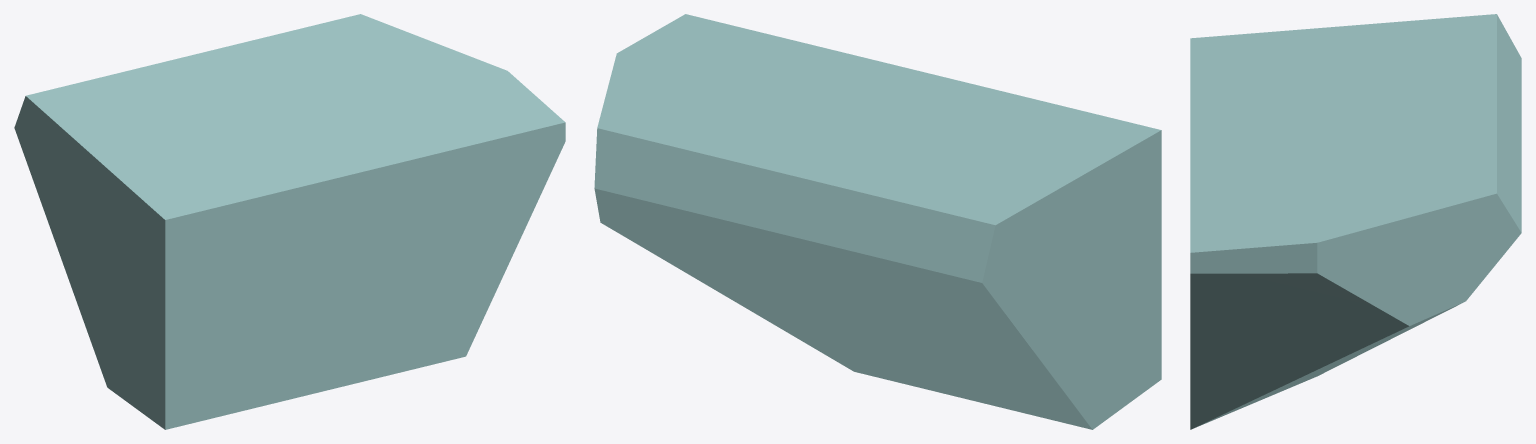
The model's file is x_kray_obriv_blue_18_1_mirror.fbx.
3 renders of one model, left to right at view 1: azimuth 30°, elevation 25°; view 2: azimuth 150°, elevation 25°; view 3: azimuth 270°, elevation 25°, orthographic. The views are drawn at different scales.
Visible parts, largest first — view 1: x_kray_obriv_blue_18_1_mirror1; view 2: x_kray_obriv_blue_18_1_mirror1; view 3: x_kray_obriv_blue_18_1_mirror1.
Boxes of the visible parts, x1,y1,x2,y2 form: x_kray_obriv_blue_18_1_mirror1: (14, 14, 565, 429); x_kray_obriv_blue_18_1_mirror1: (594, 14, 1161, 429); x_kray_obriv_blue_18_1_mirror1: (1190, 14, 1521, 429).
Bounding box in the file's own units: 2 × 1.11 × 1.3.
